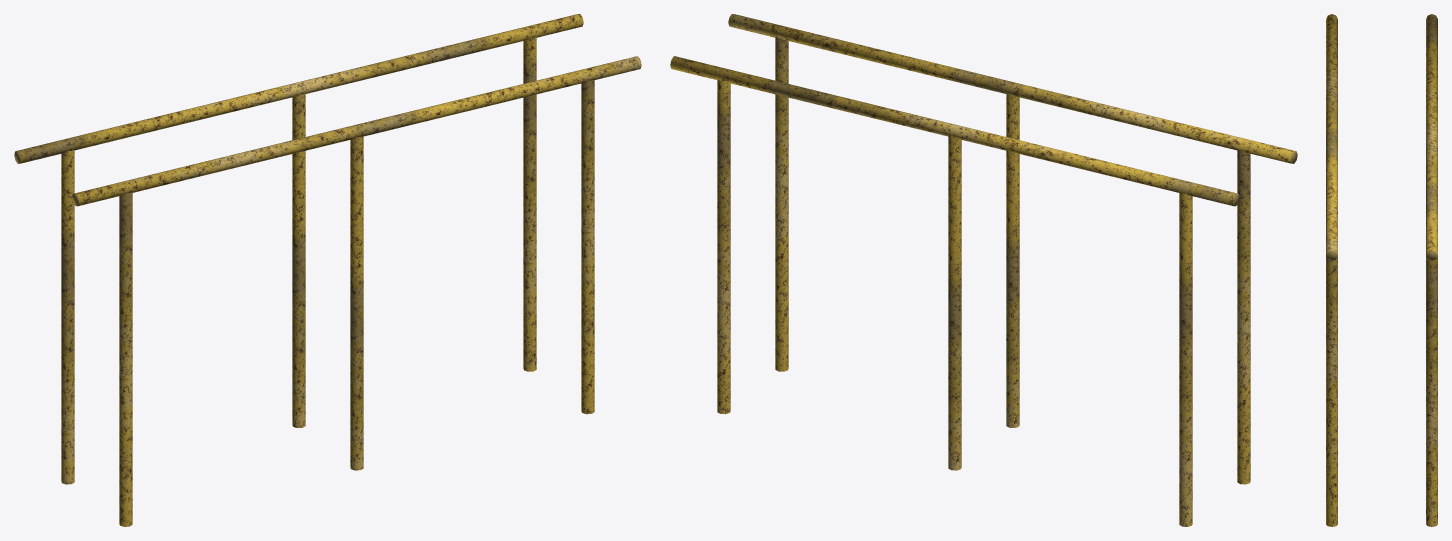
File: playground_parallel_bars_lod1_web.glb
The picture shows the model from 3 angles, left to right: view 1: azimuth 30°, elevation 25°; view 2: azimuth 150°, elevation 25°; view 3: azimuth 270°, elevation 25°; orthographic projection. The views are drawn at different scales.
Visible parts, largest first — view 1: ParallelBars_Mesh; view 2: ParallelBars_Mesh; view 3: ParallelBars_Mesh.
Boxes of the visible parts, <box> form: ParallelBars_Mesh: <box>14,14,641,526</box>; ParallelBars_Mesh: <box>670,14,1297,526</box>; ParallelBars_Mesh: <box>1326,14,1437,526</box>.
Size of the model in its own units: 2.8 by 1.63 by 0.5601.
1 material, 1 textured.
